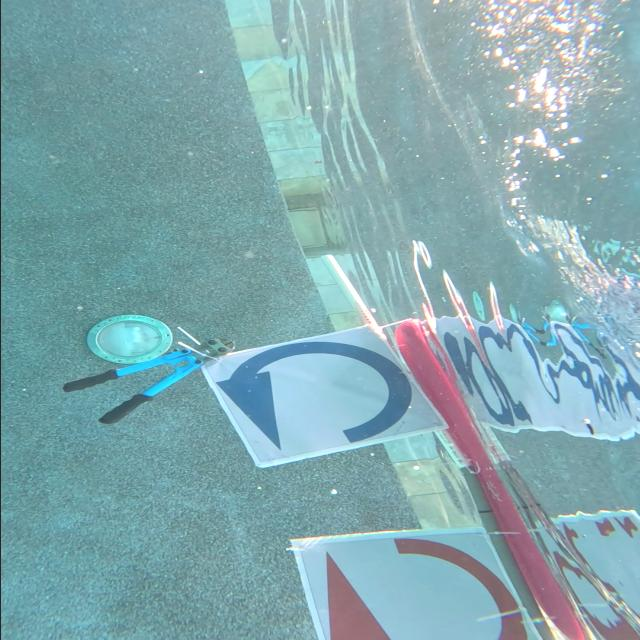blue_side: (220, 330, 412, 468)
red_side: (300, 535, 534, 640)
